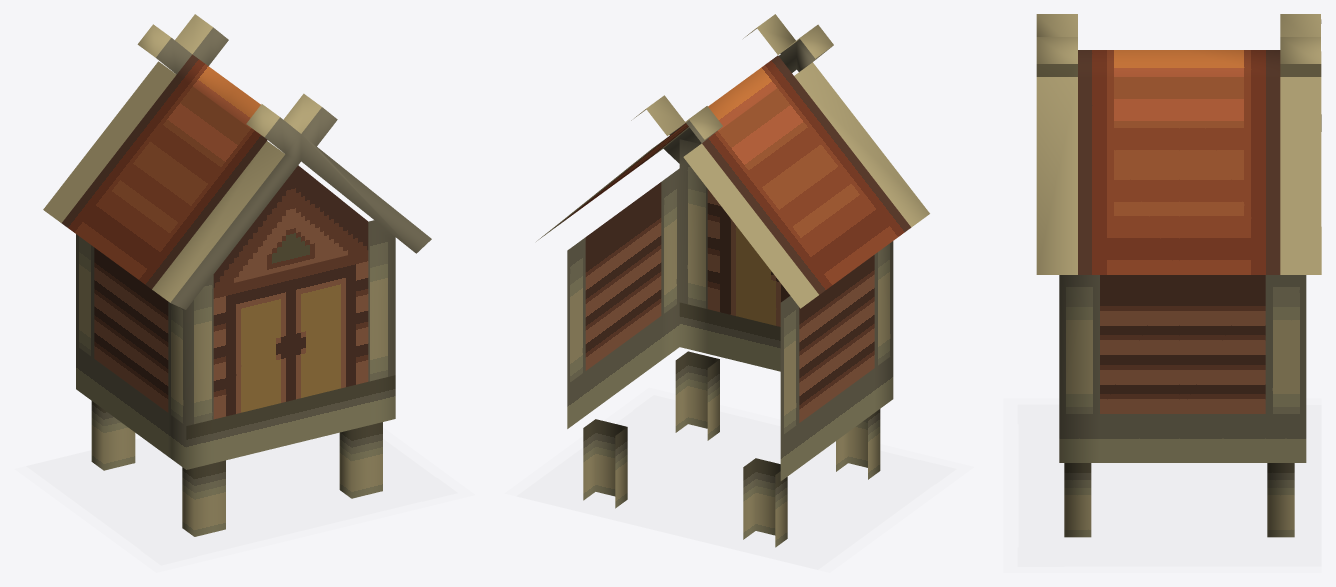
3 views of the same model, side by side, from view 1: azimuth 30°, elevation 25°; view 2: azimuth 150°, elevation 25°; view 3: azimuth 270°, elevation 25° (orthographic). The views are drawn at different scales.
Parts seen in each view (by area): view 1: polygon0, polygon2; view 2: polygon0, polygon2; view 3: polygon2, polygon0.
Part boxes in pixels (left/top/right/bottom): polygon0: left=76, top=165, right=395, bottom=536; polygon2: left=43, top=14, right=431, bottom=309; polygon0: left=567, top=139, right=893, bottom=547; polygon2: left=536, top=14, right=929, bottom=308; polygon2: left=1036, top=14, right=1321, bottom=274; polygon0: left=1059, top=275, right=1306, bottom=537.
Size of the model in its own units: 2.94 by 3.61 by 2.26.
3 materials, 3 textured.
